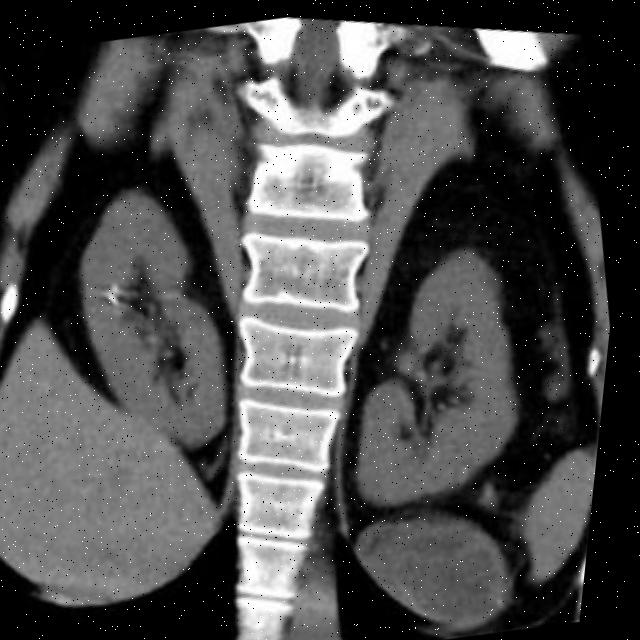Tas_Var: (109, 290, 126, 310), (113, 279, 129, 294)
